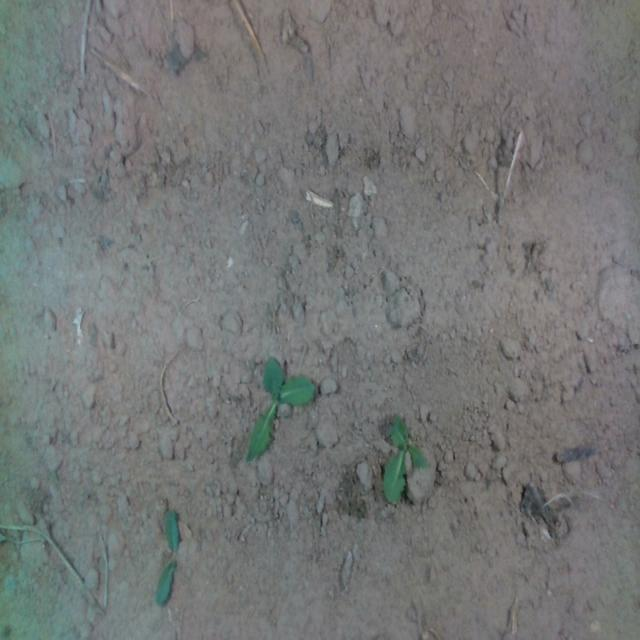weed: (243, 353, 314, 462), (382, 411, 428, 505), (154, 507, 180, 606)
